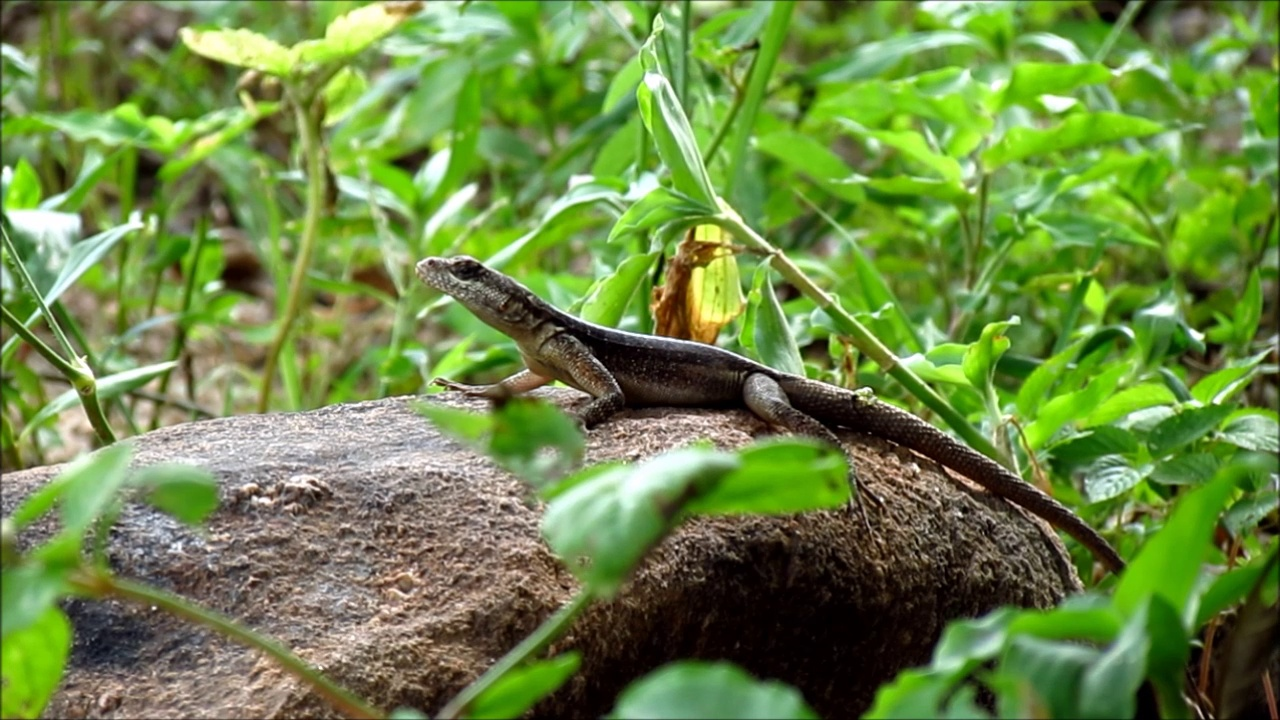body: (434, 290, 1126, 572)
head: (415, 255, 524, 318)
